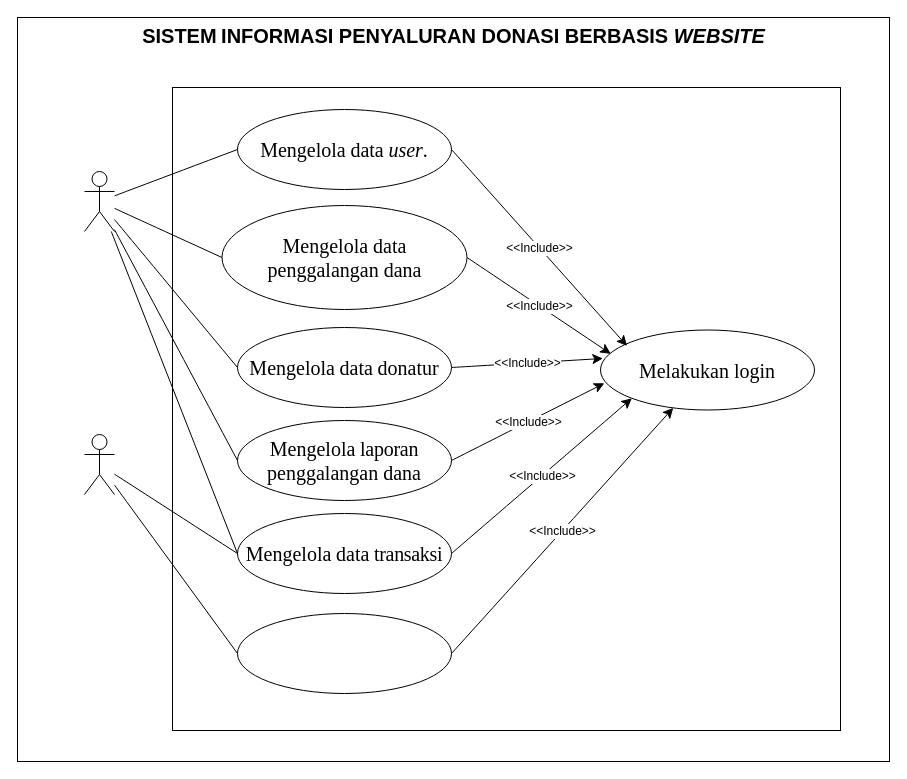
The diagram is 907 pixels wide and 779 high, and some of its shapes have lost their labels. Each missing label, with the box of its shape:
Admin: (84, 170, 114, 232)
Donatur: (84, 434, 114, 494)
Mengelola data pembayaran: (236, 612, 452, 694)
